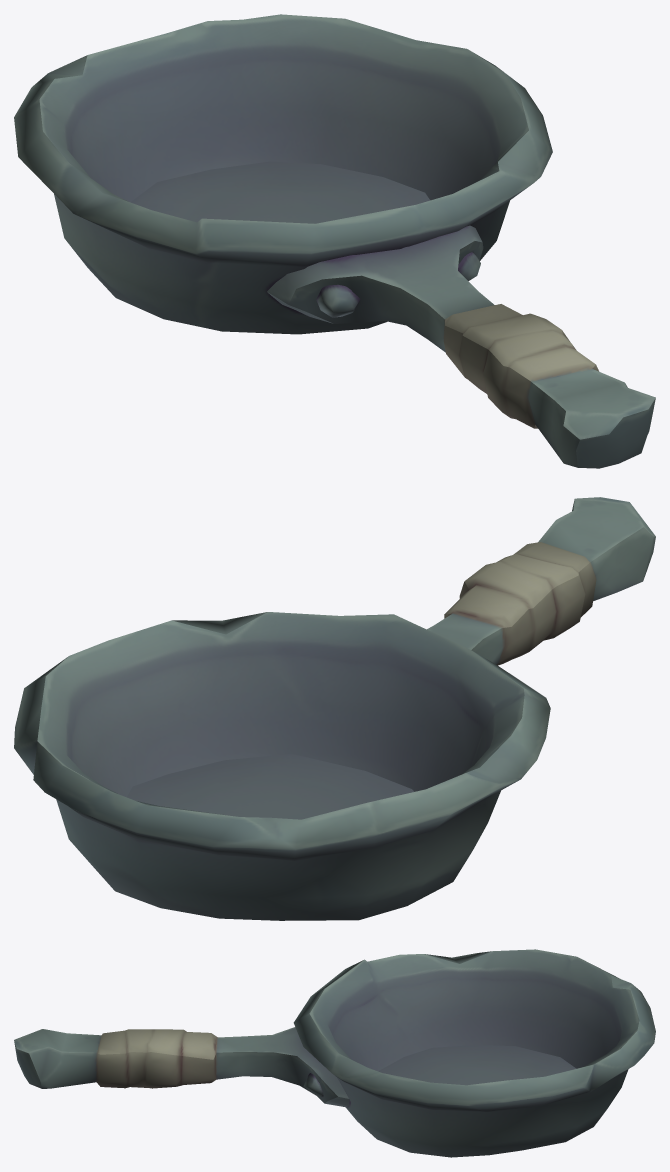
The model's file is SM_FW01_CampProp_Pan_A_01.fbx.
The picture shows the model from 3 angles, top to bottom: view 1: azimuth 30°, elevation 25°; view 2: azimuth 150°, elevation 25°; view 3: azimuth 270°, elevation 25°; orthographic projection. The views are drawn at different scales.
Parts seen in each view (by area): view 1: SM_FW01_CampProp_Pan_A_01_LOD0; view 2: SM_FW01_CampProp_Pan_A_01_LOD0; view 3: SM_FW01_CampProp_Pan_A_01_LOD0.
Part boxes in pixels (left/top/right/bottom): SM_FW01_CampProp_Pan_A_01_LOD0: left=14, top=14, right=655, bottom=468; SM_FW01_CampProp_Pan_A_01_LOD0: left=14, top=497, right=655, bottom=920; SM_FW01_CampProp_Pan_A_01_LOD0: left=14, top=949, right=655, bottom=1157.
Size of what is drawn, in the model's own units: 0.6373 by 0.1999 by 1.15.
